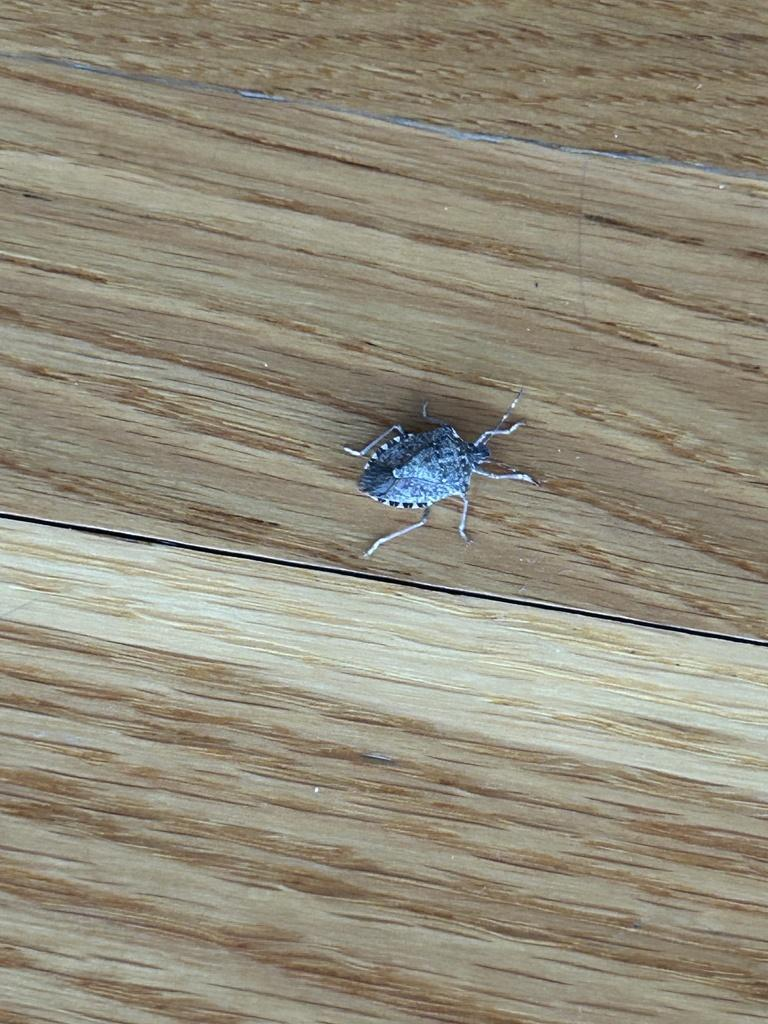stink_bugs: (295, 357, 553, 590)
